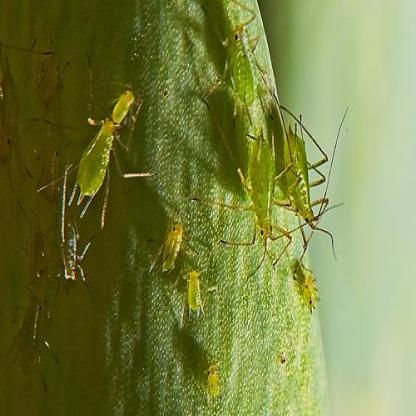aphid: (277, 105, 351, 256), (62, 109, 126, 228), (206, 2, 272, 106), (241, 118, 285, 261), (28, 103, 65, 202), (46, 214, 95, 288), (0, 56, 27, 187), (22, 295, 60, 382), (31, 42, 69, 106), (287, 252, 324, 315), (153, 211, 187, 274), (182, 269, 215, 327), (104, 84, 143, 133), (27, 223, 61, 278), (203, 350, 227, 410)
